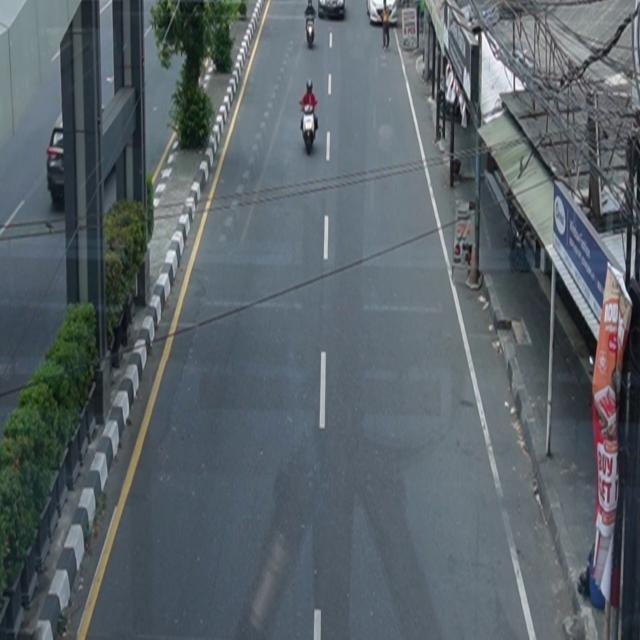car: (47, 127, 65, 204), (368, 1, 399, 26), (319, 1, 345, 19)
